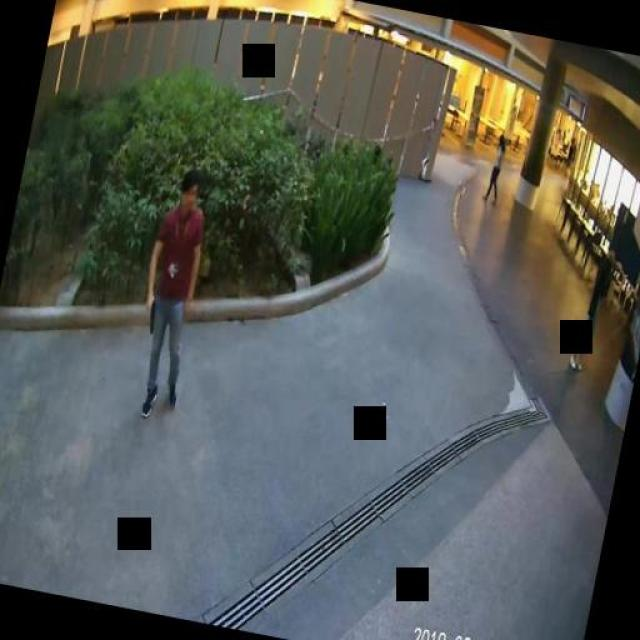gun: (140, 298, 158, 332)
